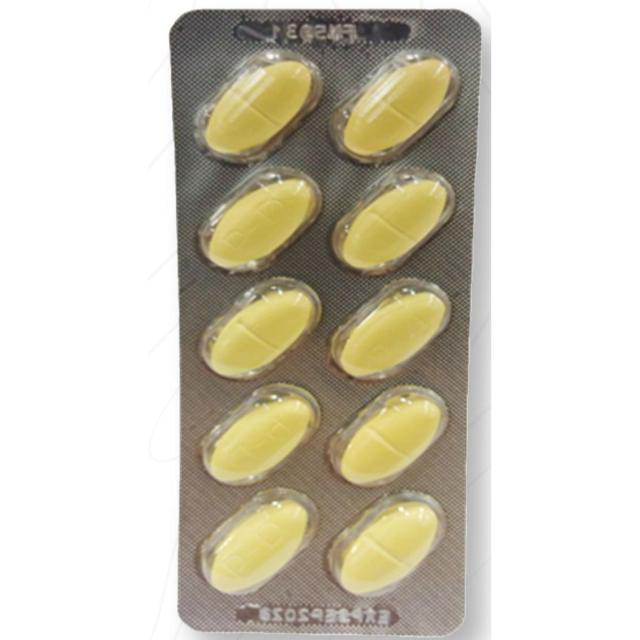blister: (166, 0, 478, 638)
